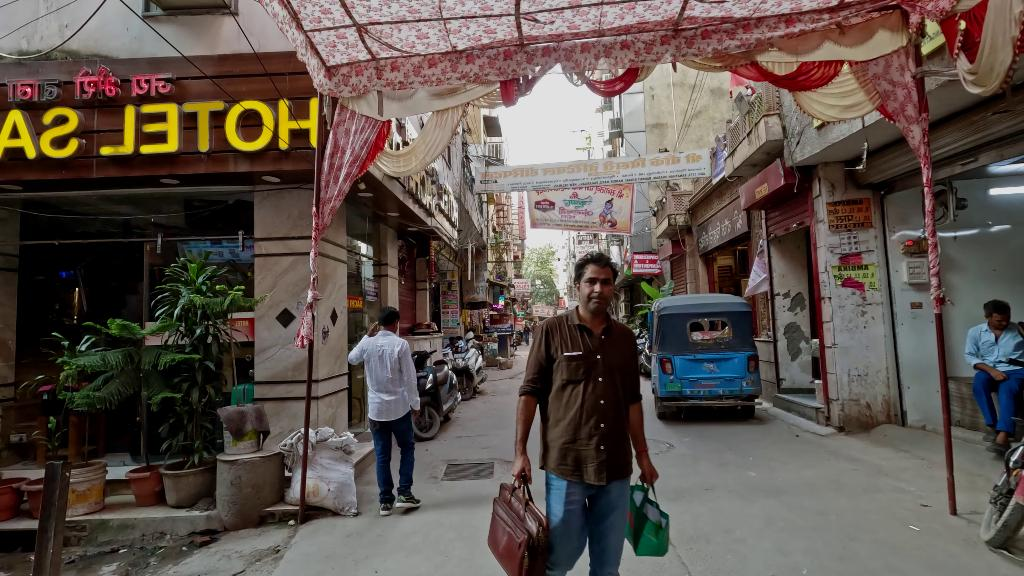garbage: (286, 428, 357, 512)
